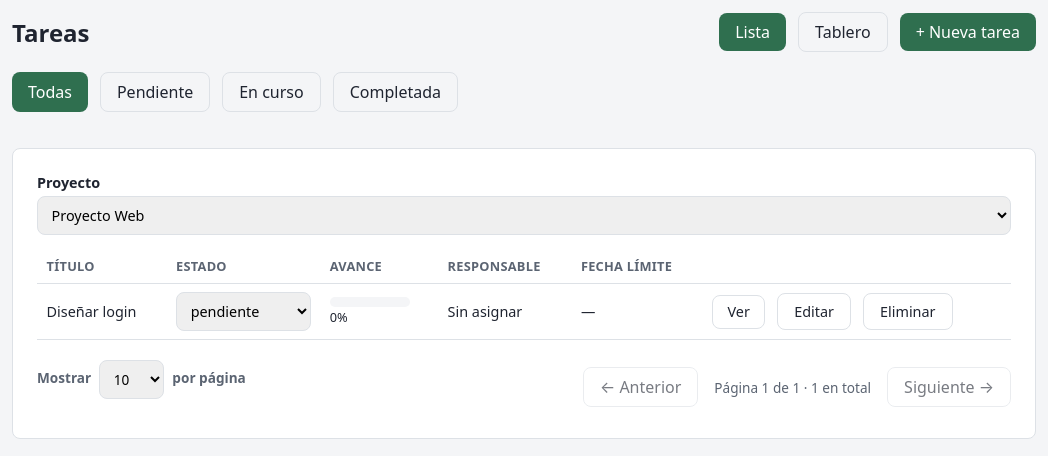
Test: SupervisorTasks — filtros de estado › muestra un mensaje distinto cuando el filtro no tiene tareas
The width and height of the screenshot is (1048, 456).
Expected: the text "Diseñar login" is shown, [37, 284, 166, 340]
Click the button "Pendiente" at (155, 92), box [100, 72, 210, 112]
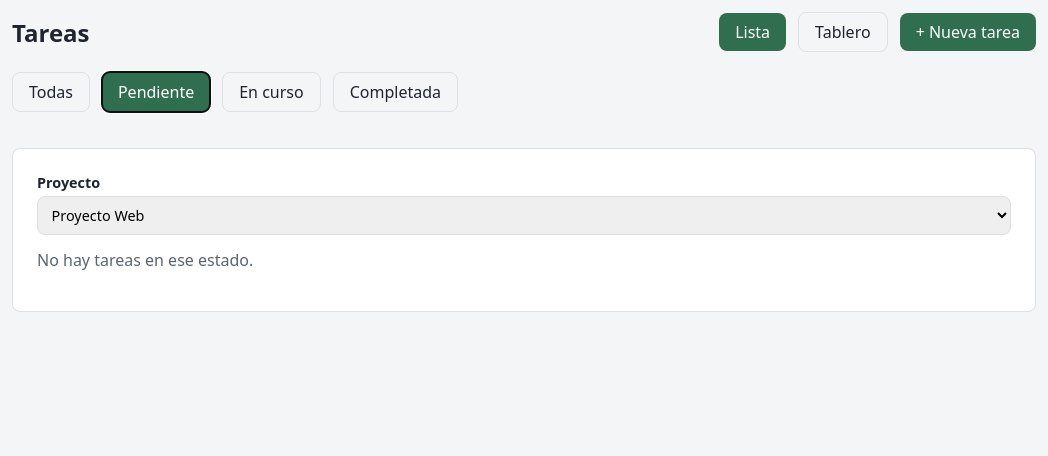
Now the text "No hay tareas en ese estado." is shown, box [37, 249, 253, 271]
